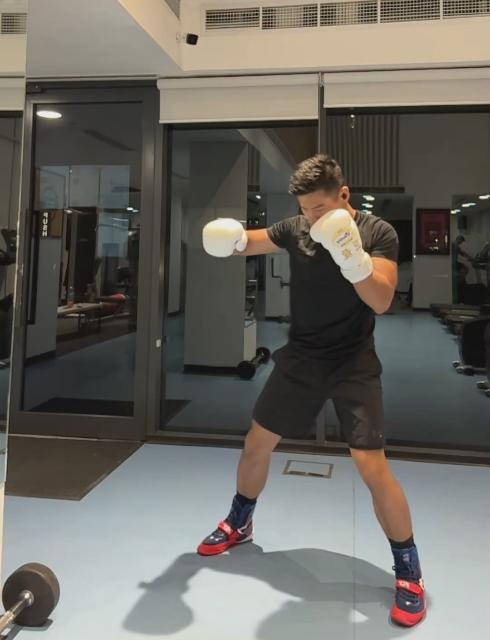punch: (194, 152, 430, 632)
